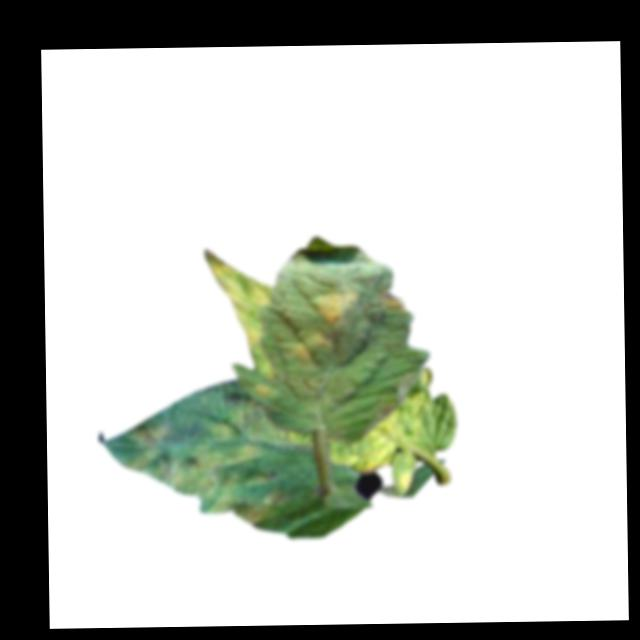Leaf_Mold: (103, 401, 305, 529), (326, 370, 436, 475), (204, 248, 276, 382), (311, 283, 362, 327), (292, 331, 337, 364), (376, 288, 406, 315)
